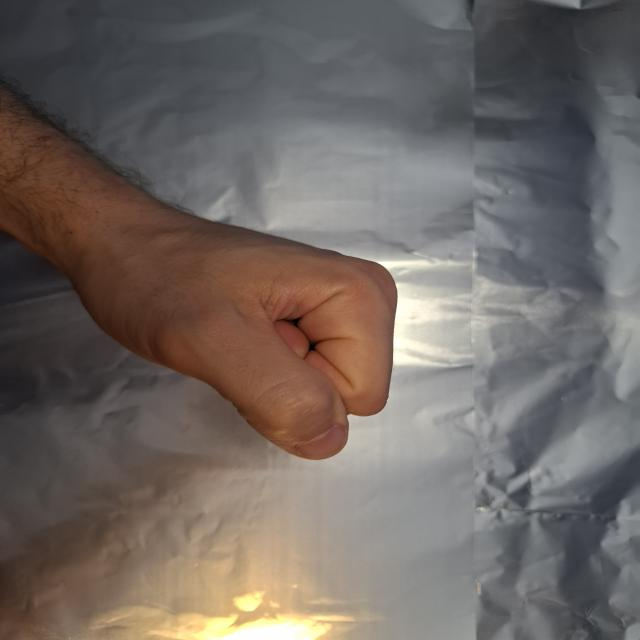glove_off: (50, 195, 402, 460)
